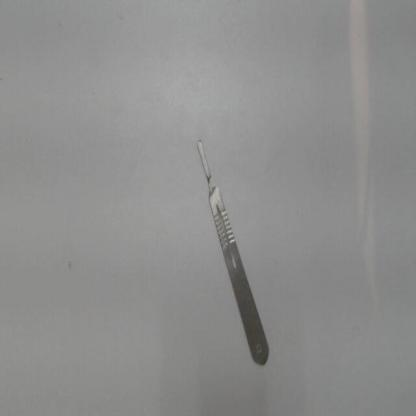No.4 BP Handle: (186, 119, 280, 374)
